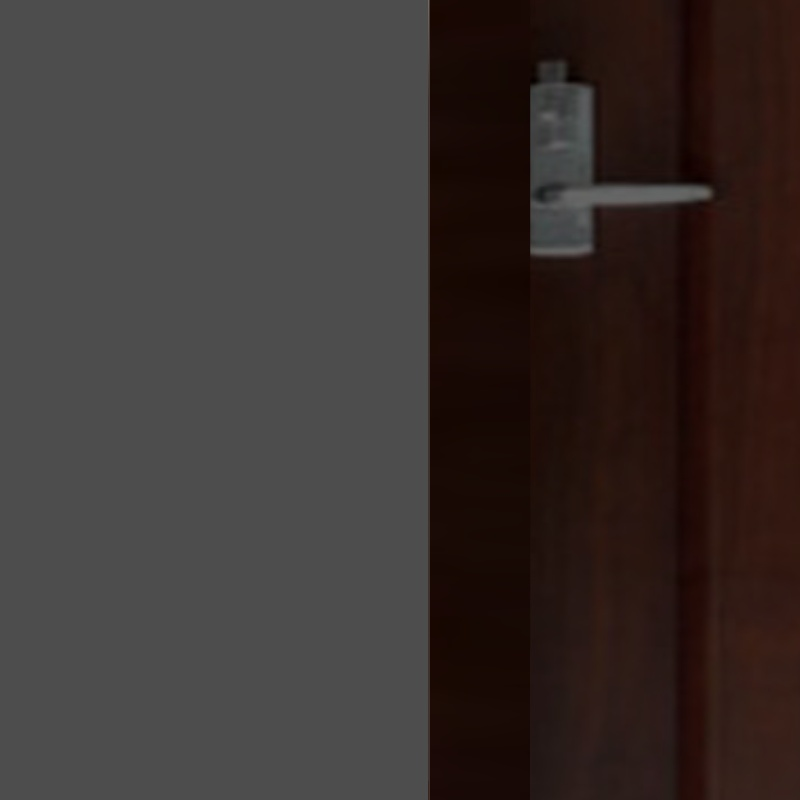handle: (508, 52, 720, 270)
